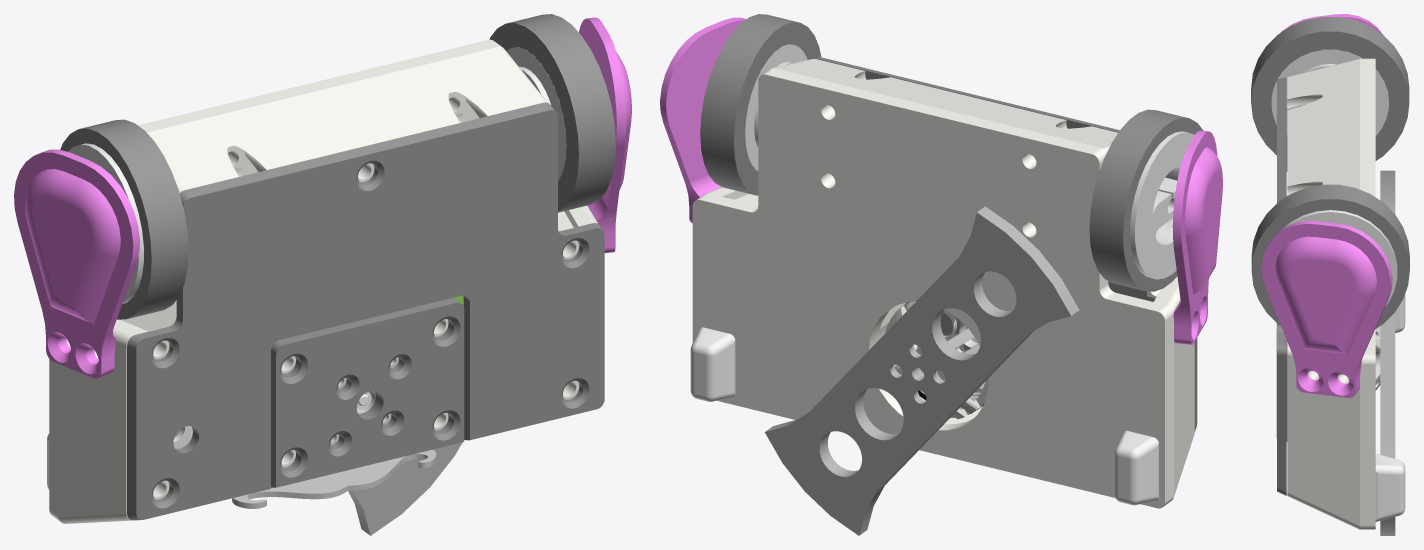
The model's file is tonka.glb.
3 views of the same model, side by side, from view 1: azimuth 30°, elevation 25°; view 2: azimuth 150°, elevation 25°; view 3: azimuth 270°, elevation 25° (orthographic). The views are drawn at different scales.
Parts seen in each view (by area): view 1: Top plate_primitive0, Chassis_primitive0, Part 23_primitive0, WEAPONG_primitive0, PART A_primitive0, Part 1; view 2: Chassis_primitive0, WEAPONG_primitive0, Top plate_primitive0, Part 23_primitive0, PART A_primitive0, Part 19_primitive0, Surface 3_primitive0; view 3: Chassis_primitive0, Top plate_primitive0, Part 23_primitive0, PART A_primitive0, WEAPONG_primitive0, Part 19_primitive0, Surface 3_primitive0.
Boxes of the visible parts, left/top/right/bottom form: Top plate_primitive0: left=60, top=14, right=615, bottom=520; Chassis_primitive0: left=49, top=39, right=597, bottom=523; Part 23_primitive0: left=14, top=17, right=631, bottom=378; WEAPONG_primitive0: left=348, top=442, right=462, bottom=535; PART A_primitive0: left=68, top=47, right=566, bottom=448; Part 1: left=232, top=449, right=436, bottom=508; Chassis_primitive0: left=692, top=58, right=1194, bottom=508; WEAPONG_primitive0: left=765, top=206, right=1079, bottom=535; Top plate_primitive0: left=700, top=14, right=1203, bottom=431; Part 23_primitive0: left=660, top=17, right=1222, bottom=344; PART A_primitive0: left=745, top=44, right=1194, bottom=279; Part 19_primitive0: left=690, top=327, right=1158, bottom=505; Surface 3_primitive0: left=885, top=302, right=988, bottom=419; Chassis_primitive0: left=1287, top=58, right=1375, bottom=529; Top plate_primitive0: left=1251, top=17, right=1409, bottom=495; Part 23_primitive0: left=1261, top=14, right=1392, bottom=397; PART A_primitive0: left=1271, top=49, right=1397, bottom=306; WEAPONG_primitive0: left=1380, top=170, right=1395, bottom=535; Part 19_primitive0: left=1375, top=294, right=1405, bottom=521; Surface 3_primitive0: left=1375, top=326, right=1380, bottom=390.
Size of the model in its own units: 0.1099 by 0.09 by 0.0323.
